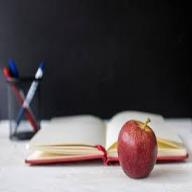apple: (114, 120, 160, 182)
